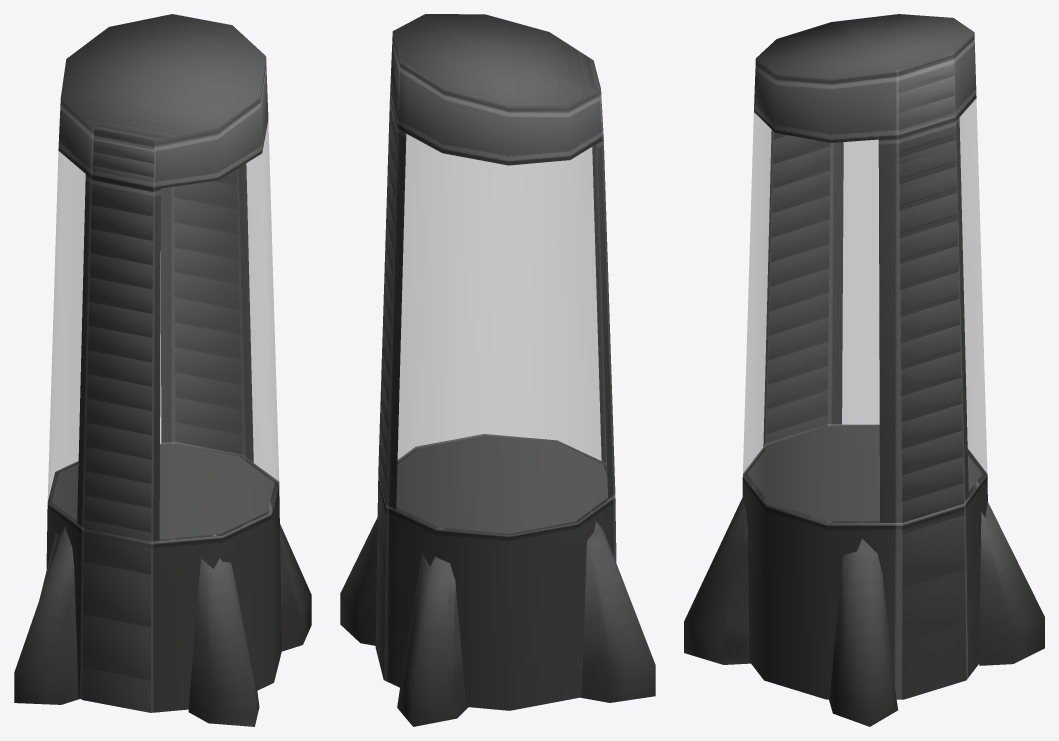
Rendered from Tubao.fbx.
3 views of the same model, side by side, from view 1: azimuth 30°, elevation 25°; view 2: azimuth 150°, elevation 25°; view 3: azimuth 270°, elevation 25° (orthographic). The views are drawn at different scales.
Visible parts, largest first — view 1: Tubao; view 2: Tubao; view 3: Tubao.
Part boxes in pixels (x1=…): Tubao: x1=14, y1=14, x2=311, y2=726; Tubao: x1=340, y1=14, x2=655, y2=726; Tubao: x1=684, y1=14, x2=1044, y2=726.
Size of the model in its own units: 125 by 239 by 125.
